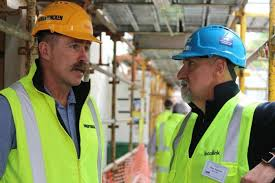hard hat: (171, 23, 248, 69), (30, 2, 104, 44)
high-vis: (1, 78, 104, 180), (171, 95, 261, 183)
